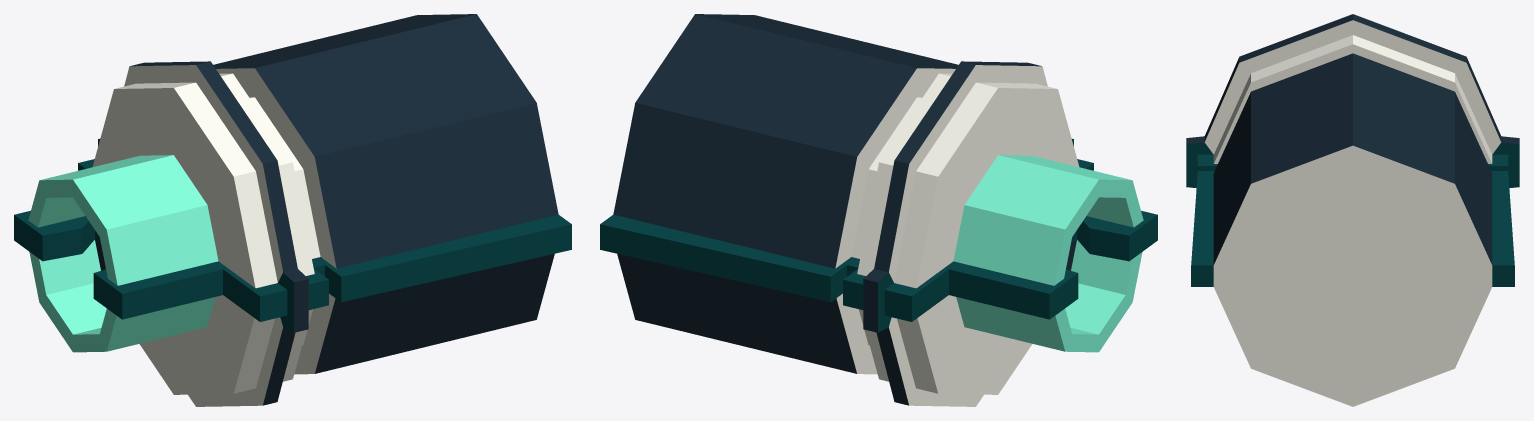
The model's file is Buildings_ConnectorEnd.fbx.
The picture shows the model from 3 angles, left to right: view 1: azimuth 30°, elevation 25°; view 2: azimuth 150°, elevation 25°; view 3: azimuth 270°, elevation 25°; orthographic projection. The views are drawn at different scales.
Parts seen in each view (by area): view 1: ConnectorEnd; view 2: ConnectorEnd; view 3: ConnectorEnd.
Boxes of the visible parts, x1,y1,x2,y2 form: ConnectorEnd: (14,14,571,406); ConnectorEnd: (600,14,1157,406); ConnectorEnd: (1186,14,1519,406).
Bounding box in the file's own units: 928 × 742 × 771.
